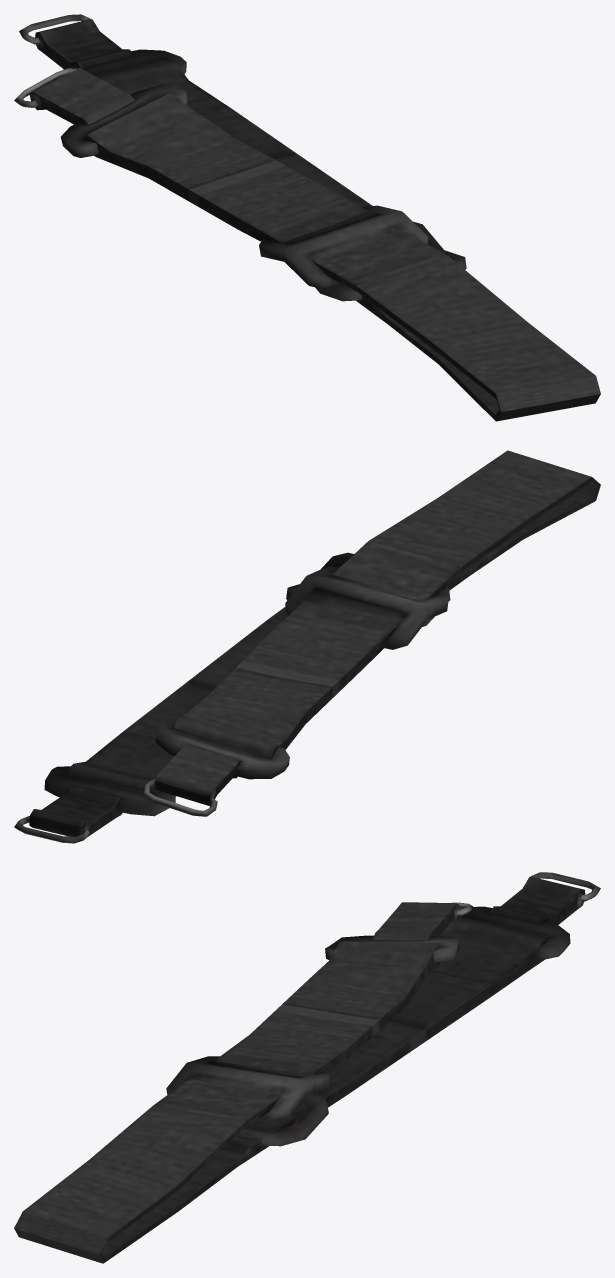
The model's file is Sling_WM.fbx.
3 views of the same model, one above another, from view 1: azimuth 30°, elevation 25°; view 2: azimuth 150°, elevation 25°; view 3: azimuth 330°, elevation 25° (orthographic). The views are drawn at different scales.
Parts seen in each view (by area): view 1: Rifle_Sling.001; view 2: Rifle_Sling.001; view 3: Rifle_Sling.001.
Part boxes in pixels (x1,y1,x2,y2): Rifle_Sling.001: [14, 14, 600, 421]; Rifle_Sling.001: [14, 450, 600, 843]; Rifle_Sling.001: [14, 872, 600, 1263].
Size of the model in its own units: 0.0534 by 0.0132 by 0.2738.
